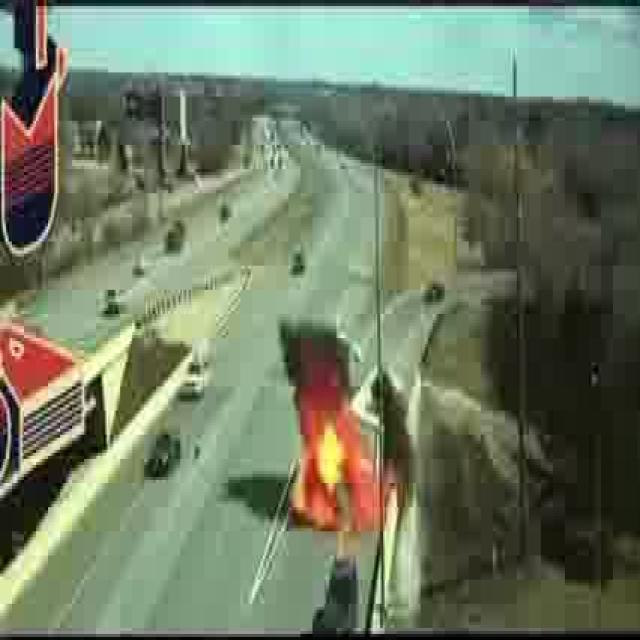multiple_accident: (333, 350, 406, 531)
